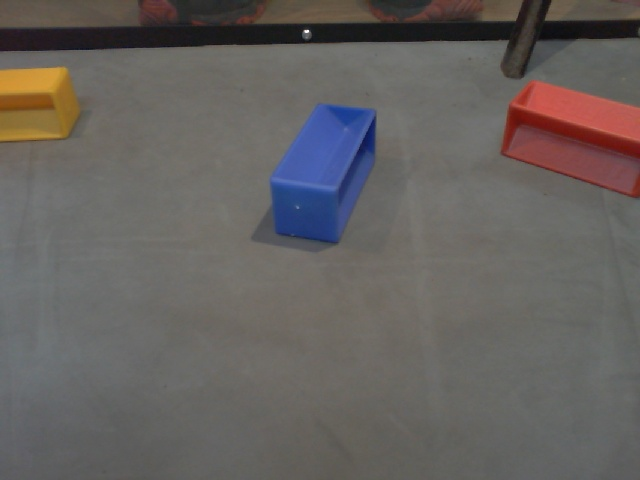BlueSample: (265, 97, 381, 247)
RedSample: (495, 78, 638, 198)
YellowSample: (1, 65, 85, 145)
